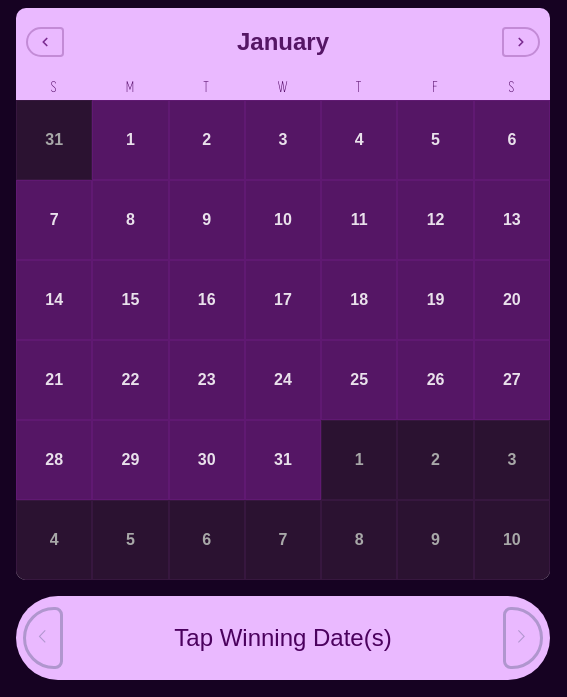
it: SelectWinningDates › toggles a date within range and enables the lock-in action
expect the text "Tap Winning Date(s)" is shown: met, box [174, 624, 392, 651]
Click the 1st text "1" at (130, 140), box [92, 100, 169, 180]
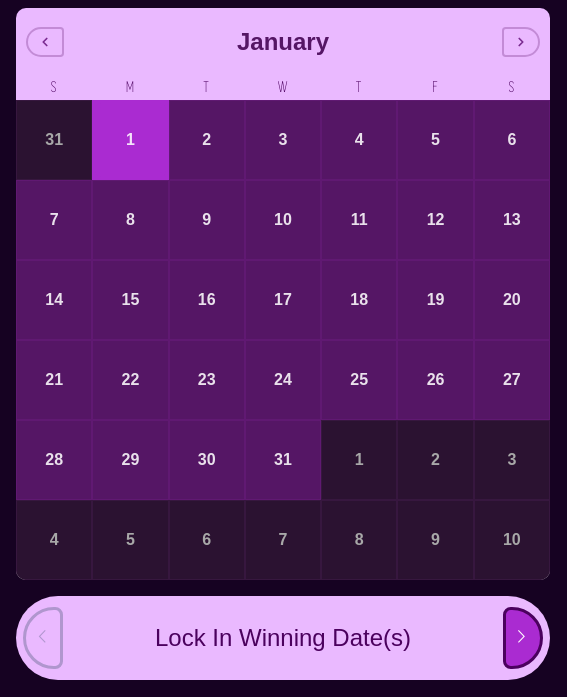
expect the text "Lock In Winning Date(s)" is shown: met, box [155, 624, 411, 651]
Click the 1st text "1" at (130, 140), box [92, 100, 169, 180]
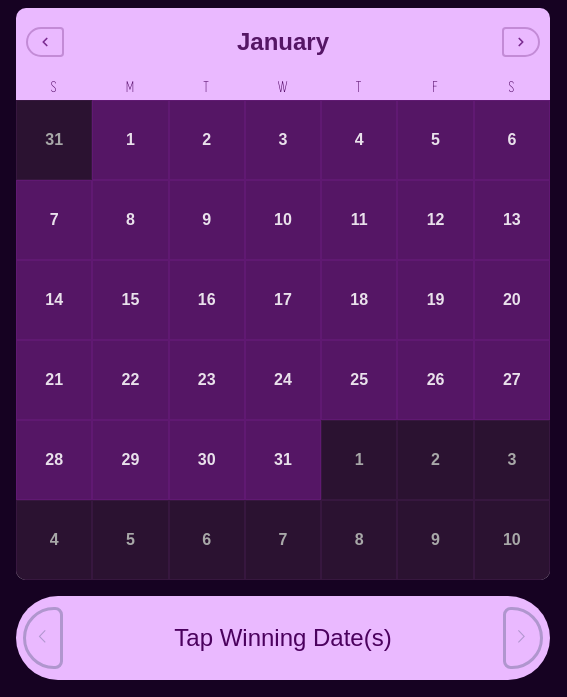
expect the text "Tap Winning Date(s)" is shown: met, box [174, 624, 392, 651]
